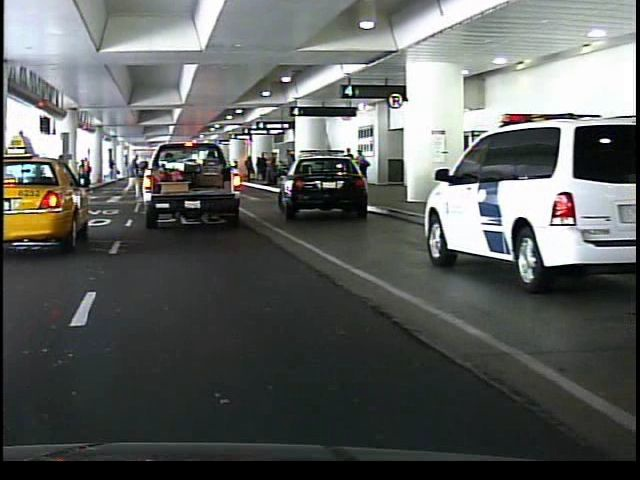person: (117, 152, 142, 202)
